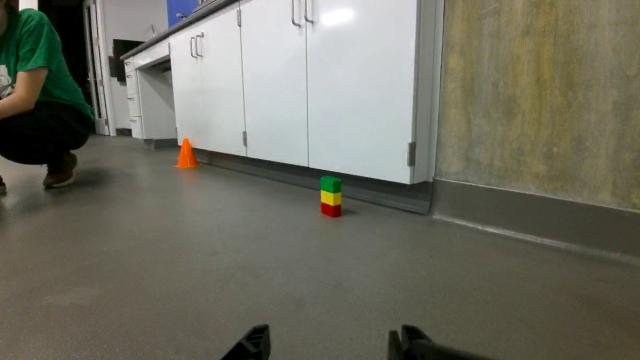lego: (316, 169, 348, 220)
